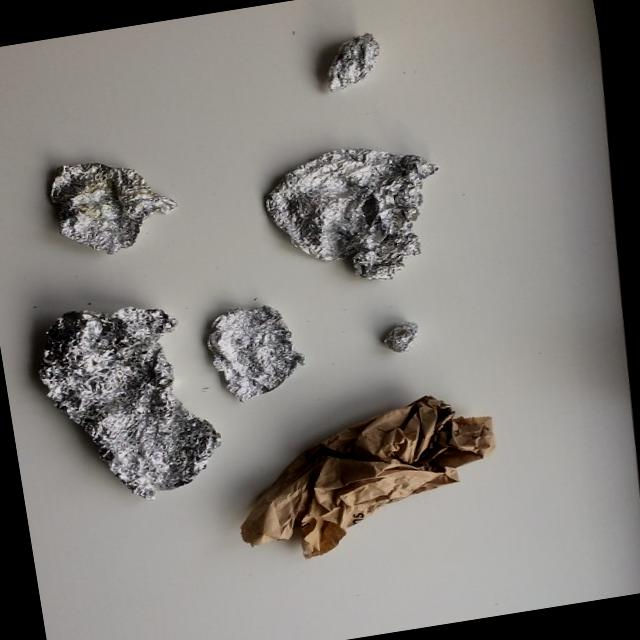Recycle: (223, 383, 520, 571), (27, 290, 232, 518), (257, 133, 460, 299), (42, 143, 186, 263), (190, 296, 314, 411), (317, 28, 388, 96), (379, 316, 421, 356)
